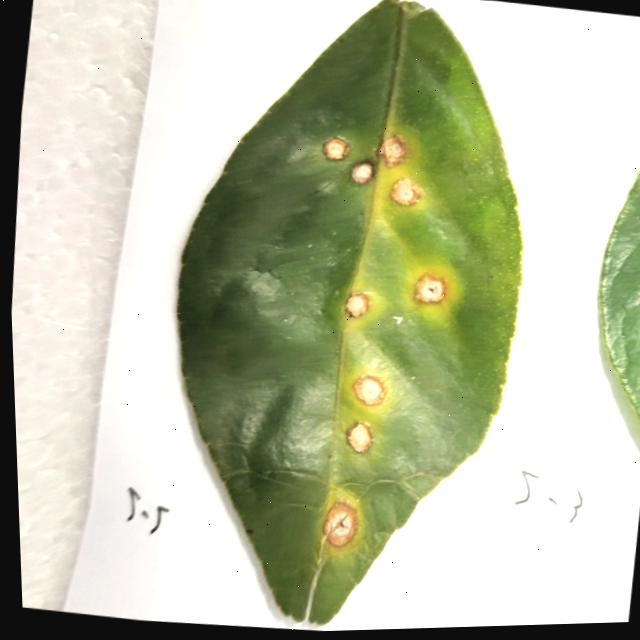antracnose: (177, 0, 521, 623), (323, 501, 357, 545), (414, 272, 446, 302), (353, 374, 384, 403), (379, 134, 406, 165), (347, 421, 372, 451), (345, 292, 368, 315), (323, 137, 348, 158), (352, 161, 373, 182)
